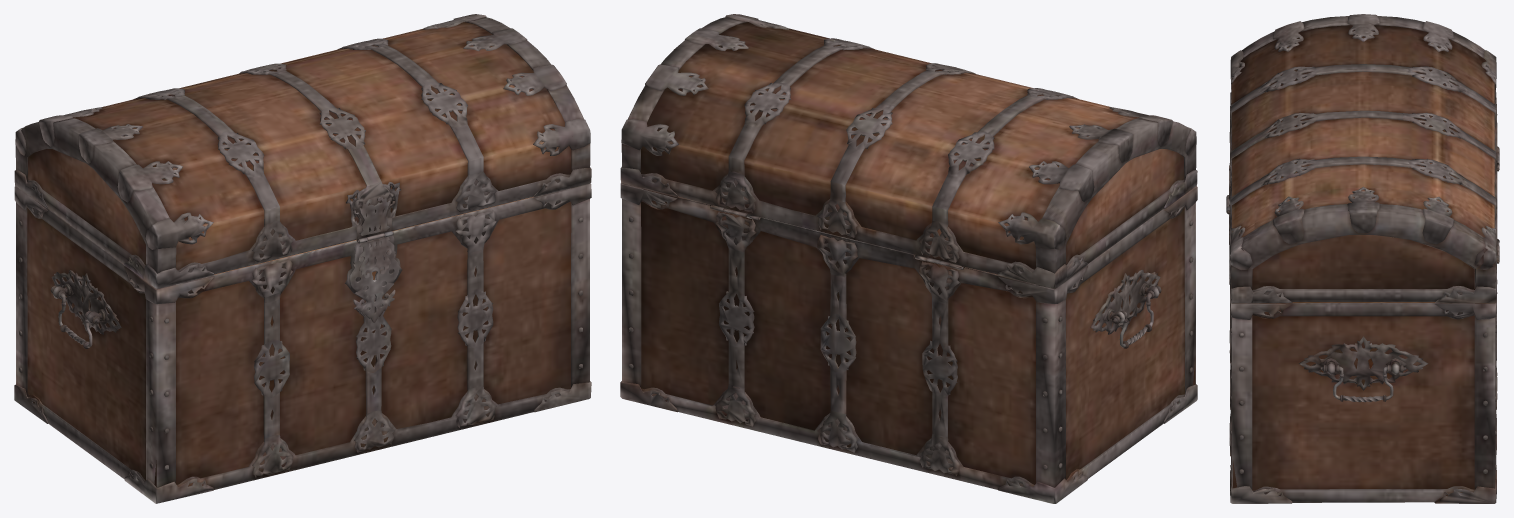
Rendered from treasure_chest.glb.
The picture shows the model from 3 angles, left to right: view 1: azimuth 30°, elevation 25°; view 2: azimuth 150°, elevation 25°; view 3: azimuth 270°, elevation 25°; orthographic projection. The views are drawn at different scales.
Parts seen in each view (by area): view 1: treasure_chest_bottom, treasure_chest_lid, treasure_chest_lock, treasure_chest_handle_left; view 2: treasure_chest_bottom, treasure_chest_lid, treasure_chest_handle_left; view 3: treasure_chest_lid, treasure_chest_bottom, treasure_chest_handle_right.
Part boxes in pixels (x1,y1,x2,y2): treasure_chest_bottom: (14, 183, 591, 503); treasure_chest_lid: (14, 14, 591, 288); treasure_chest_lock: (349, 233, 399, 322); treasure_chest_handle_left: (50, 285, 100, 348); treasure_chest_bottom: (620, 183, 1197, 503); treasure_chest_lid: (620, 14, 1197, 288); treasure_chest_handle_left: (1112, 285, 1161, 348); treasure_chest_lid: (1226, 14, 1499, 303); treasure_chest_bottom: (1229, 134, 1499, 503); treasure_chest_handle_right: (1320, 365, 1406, 402).
Bounding box in the file's own units: 0.959 × 0.6182 × 0.5223.
Materials: 1 (1 with a texture image).
